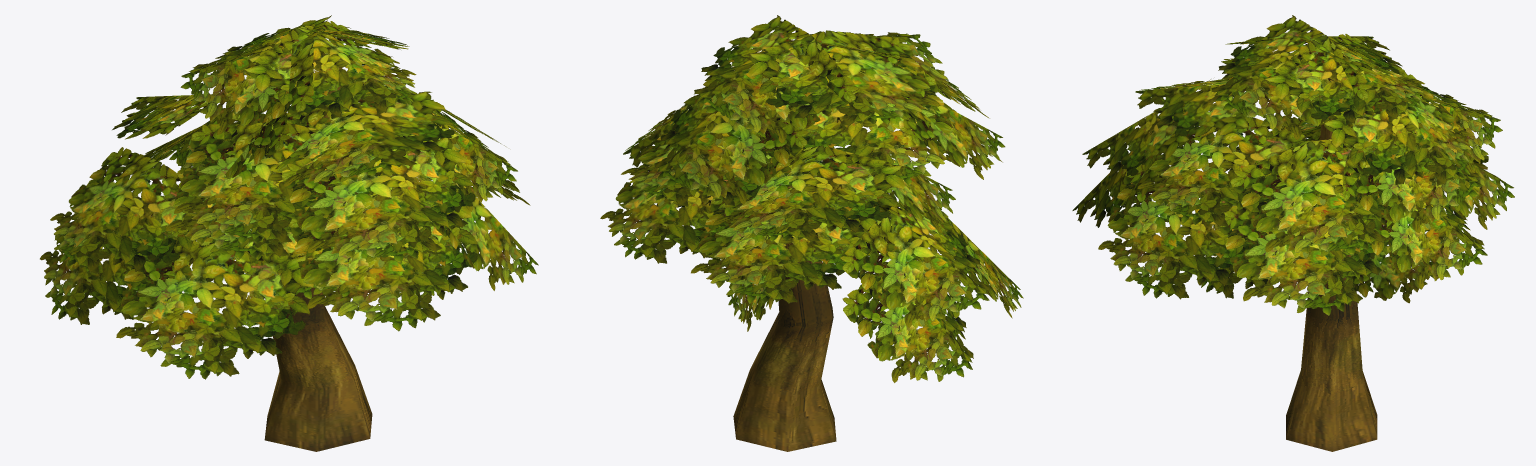
Rendered from obj_macoprtr03.glb.
3 views of the same model, side by side, from view 1: azimuth 30°, elevation 25°; view 2: azimuth 150°, elevation 25°; view 3: azimuth 270°, elevation 25° (orthographic). The views are drawn at different scales.
Parts seen in each view (by area): view 1: part_0; view 2: part_0; view 3: part_0.
Part boxes in pixels (bbox=[...]): part_0: bbox=[40, 15, 538, 451]; part_0: bbox=[600, 15, 1023, 451]; part_0: bbox=[1072, 15, 1514, 451].
Size of the model in its own units: 7.94 by 7.29 by 7.88.
Materials: 2 (2 with a texture image).
